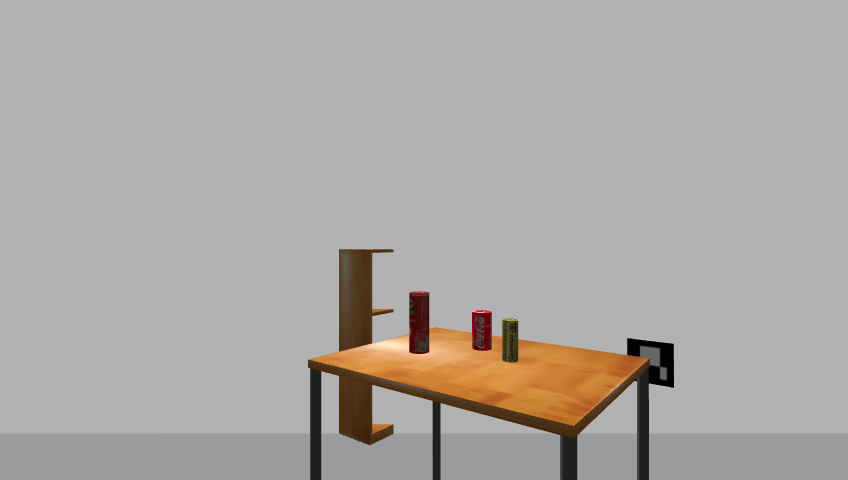aruco marker: (623, 335, 680, 390)
biscuits pack: (502, 318, 520, 364)
bookshelf: (333, 246, 398, 448)
coke can: (472, 310, 492, 351)
dinner table: (302, 330, 661, 480)
pringles can: (408, 291, 431, 356)
